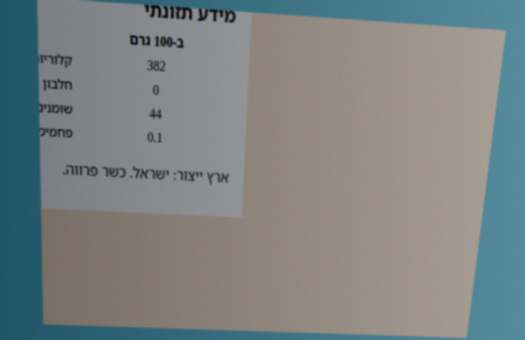carbs: (145, 125, 165, 149)
energy: (144, 53, 168, 78)
fat: (147, 101, 164, 125)
protein: (150, 78, 162, 102)
